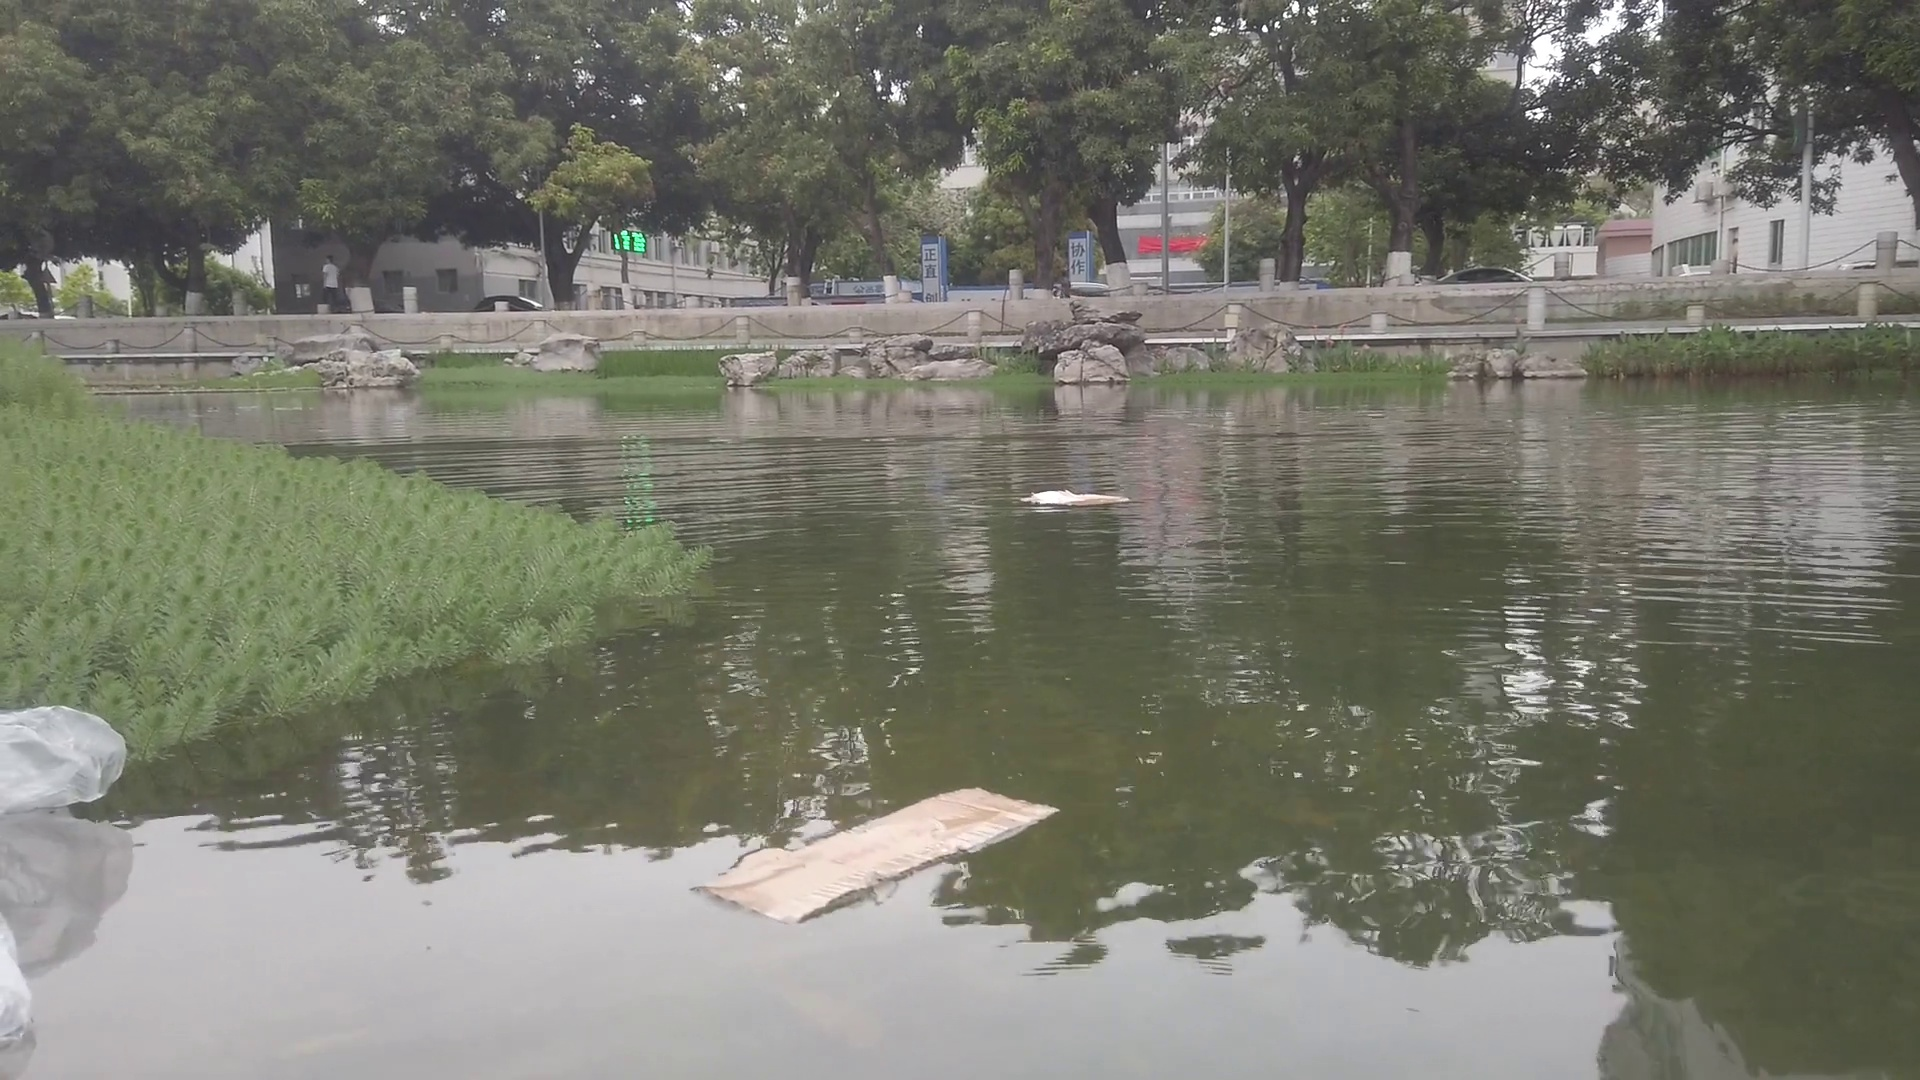paper: (699, 789, 1071, 911), (1025, 488, 1135, 508)
plastic: (3, 702, 125, 806)
